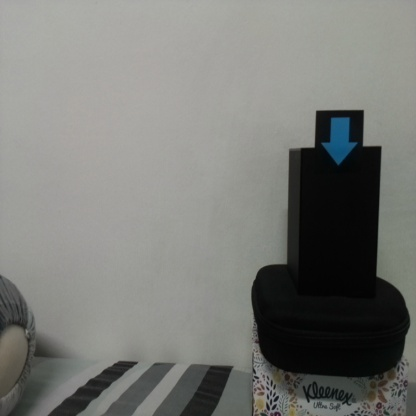id_2: (316, 111, 364, 175)
